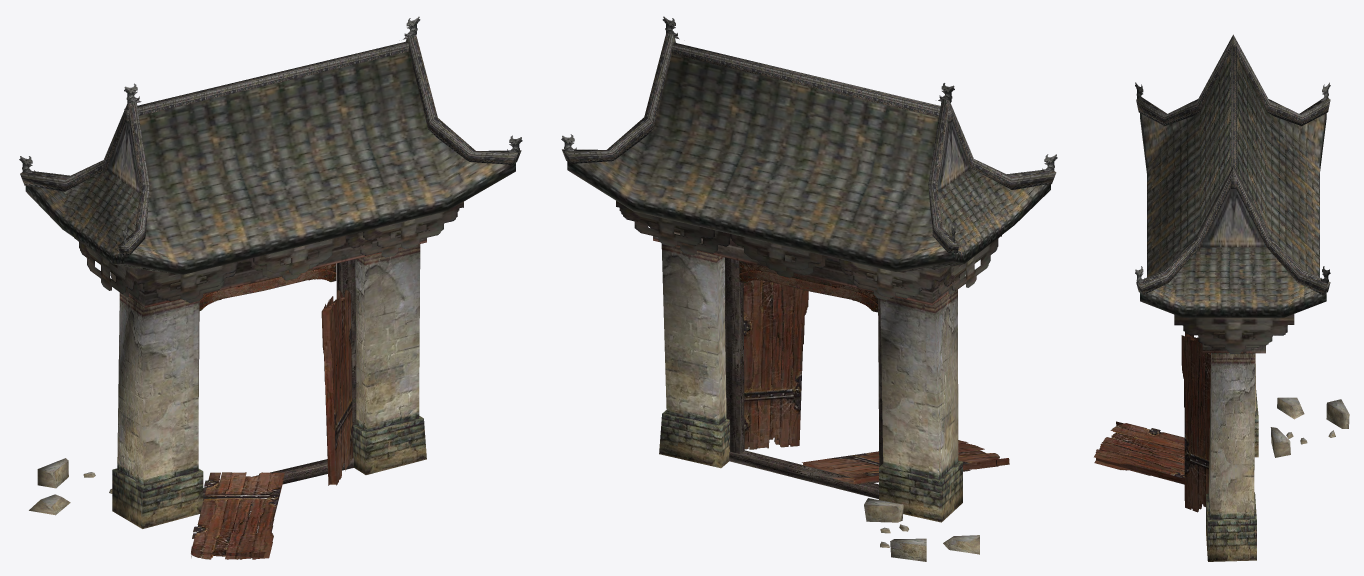
Rendered from cj_graveyard_gateway.glb.
3 renders of one model, left to right at view 1: azimuth 30°, elevation 25°; view 2: azimuth 150°, elevation 25°; view 3: azimuth 270°, elevation 25°, orthographic. The views are drawn at different scales.
Parts seen in each view (by area): view 1: cj_graveyard_gateway01, cj_graveyard_gateway02, cj_graveyard_gateway03, cj_graveyard_gateway06, cj_graveyard_gateway04, cj_graveyard_gateway05; view 2: cj_graveyard_gateway01, cj_graveyard_gateway02, cj_graveyard_gateway03, cj_graveyard_gateway06, cj_graveyard_gateway04, cj_graveyard_gateway05; view 3: cj_graveyard_gateway01, cj_graveyard_gateway02, cj_graveyard_gateway03, cj_graveyard_gateway05, cj_graveyard_gateway06.
Boxes of the visible parts, <box> form: cj_graveyard_gateway01: <box>20,35,521,274</box>; cj_graveyard_gateway02: <box>29,244,426,528</box>; cj_graveyard_gateway03: <box>74,202,463,559</box>; cj_graveyard_gateway06: <box>129,234,426,500</box>; cj_graveyard_gateway04: <box>199,263,336,310</box>; cj_graveyard_gateway05: <box>19,16,522,248</box>; cj_graveyard_gateway01: <box>562,33,1056,271</box>; cj_graveyard_gateway02: <box>659,243,979,561</box>; cj_graveyard_gateway03: <box>616,201,1009,484</box>; cj_graveyard_gateway06: <box>653,231,948,499</box>; cj_graveyard_gateway04: <box>739,260,877,312</box>; cj_graveyard_gateway05: <box>561,16,1057,242</box>; cj_graveyard_gateway01: <box>1136,34,1330,317</box>; cj_graveyard_gateway02: <box>1206,353,1349,561</box>; cj_graveyard_gateway03: <box>1094,314,1294,512</box>; cj_graveyard_gateway05: <box>1135,82,1330,286</box>; cj_graveyard_gateway06: <box>1202,335,1265,353</box>.
Bounding box in the file's own units: 19.85 × 20.15 × 11.41.
5 materials, 5 textured.
